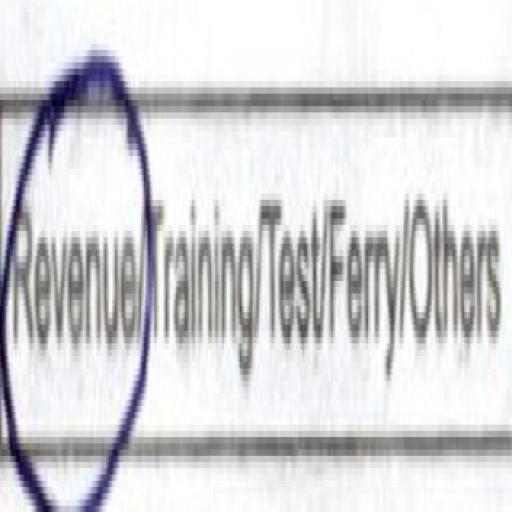check: (0, 2, 147, 512)
